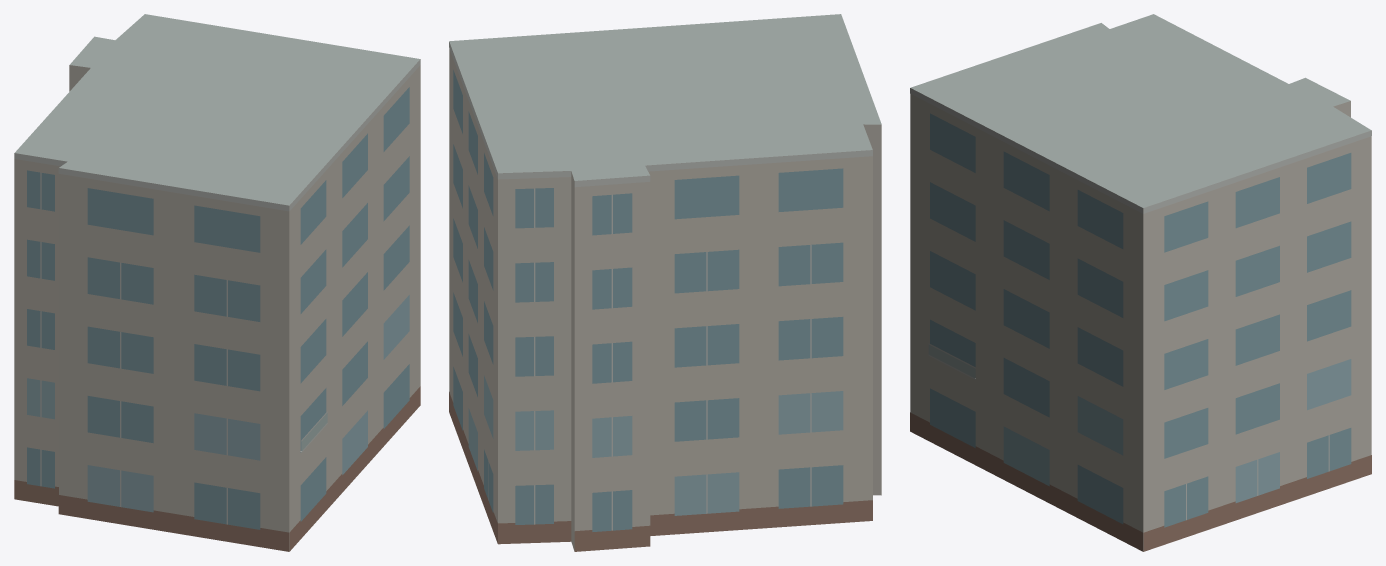
Rendered from survey-upis-32742660.glb.
The picture shows the model from 3 angles, left to right: view 1: azimuth 30°, elevation 25°; view 2: azimuth 150°, elevation 25°; view 3: azimuth 270°, elevation 25°; orthographic projection. The views are drawn at different scales.
Visible parts, largest first — view 1: survey-upis-32742660.tmp; view 2: survey-upis-32742660.tmp; view 3: survey-upis-32742660.tmp.
Part boxes in pixels (x1,y1,x2,y2): survey-upis-32742660.tmp: [14, 14, 420, 551]; survey-upis-32742660.tmp: [449, 14, 881, 551]; survey-upis-32742660.tmp: [910, 14, 1371, 551].
Bounding box in the file's own units: 17.57 × 14.5 × 17.65.
